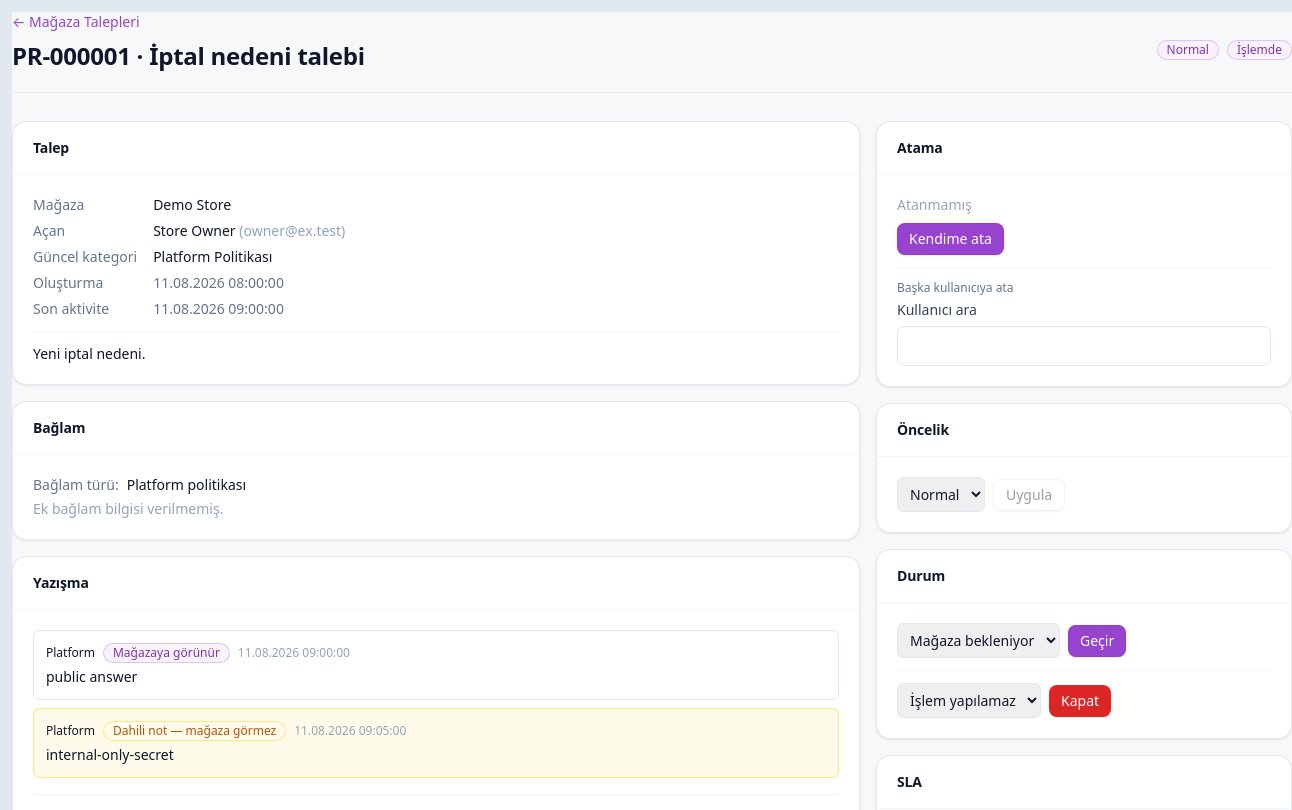
TODO-178 detail: internal vs visible distinction + actions › a VERSION_CONFLICT reloads the request and shows a human message (no crash)
# select a different priority first
Select "Acil" in the dropdown below "Öncelik" at (941, 494), box [897,477,985,512]
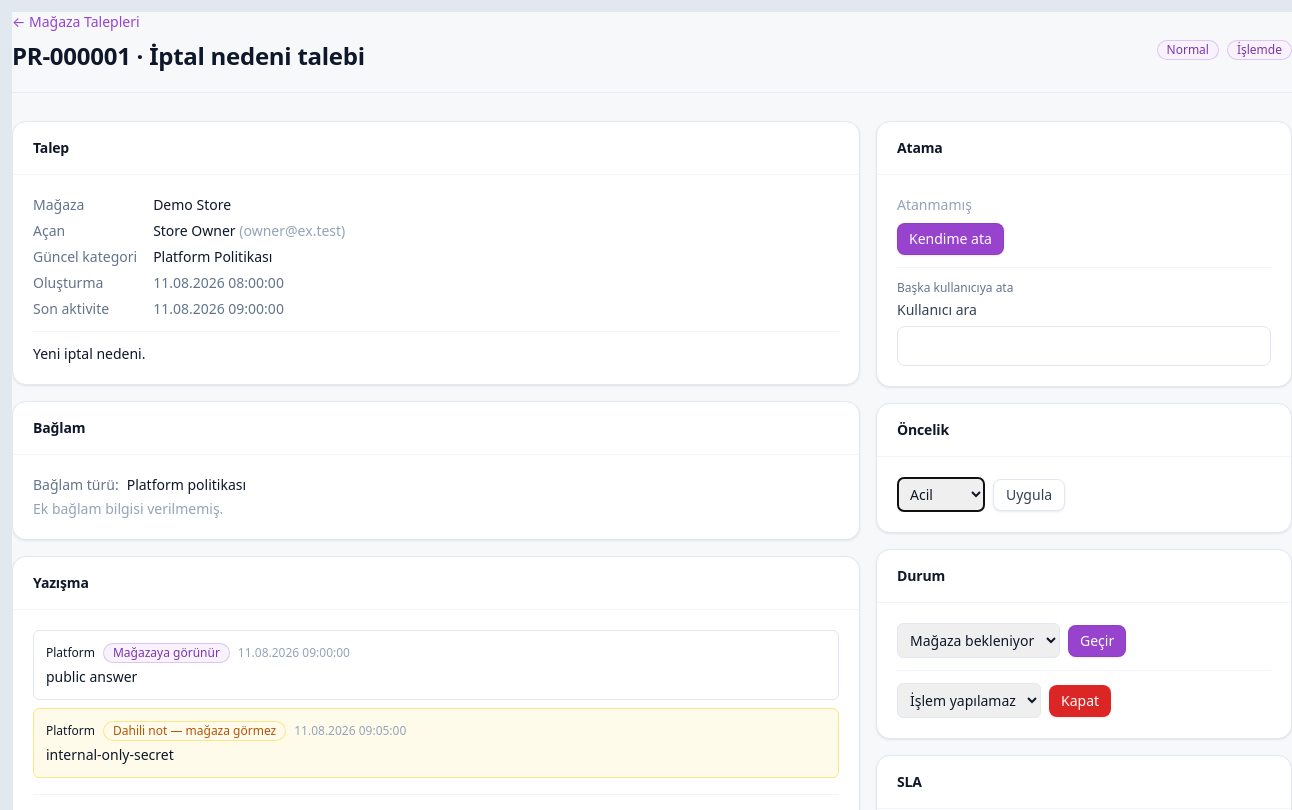
Click the button "Uygula" at (1029, 494), box [993,478,1065,510]
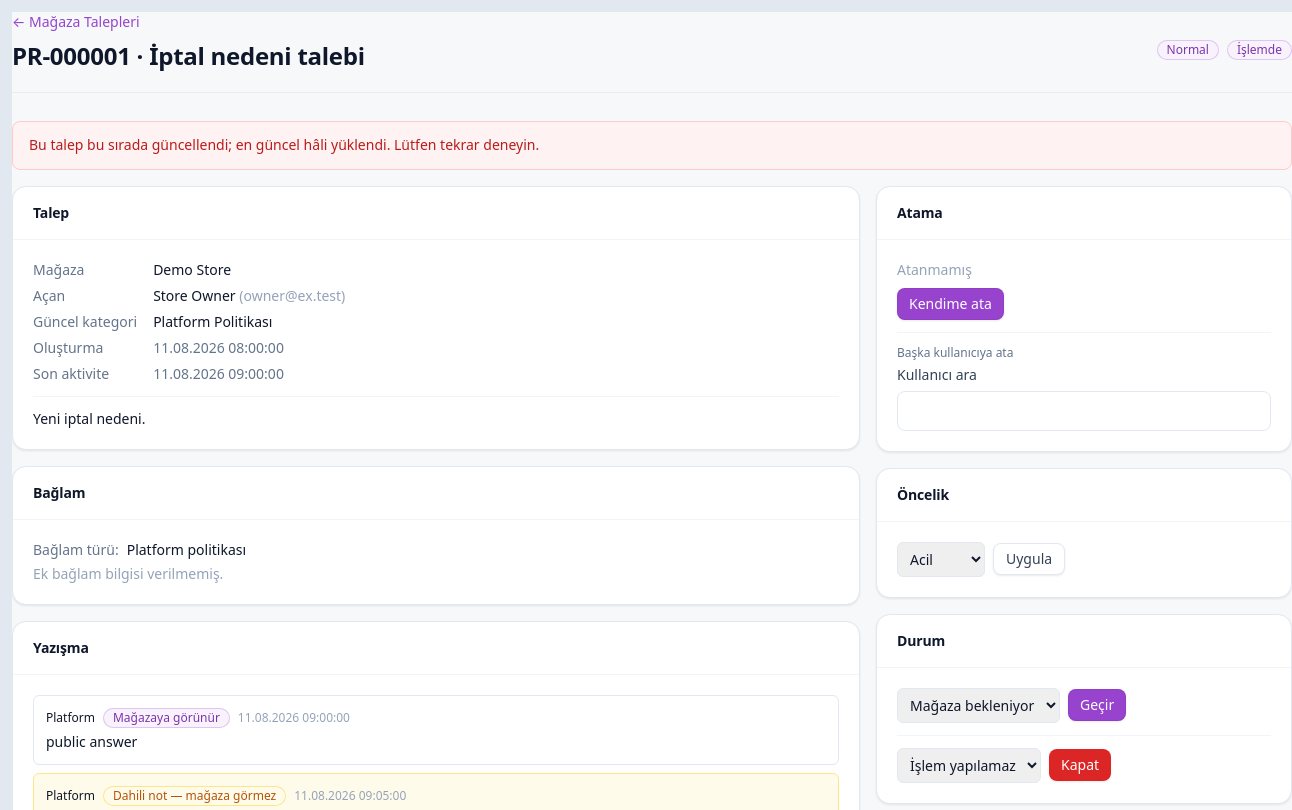
Expected: the text "en güncel hâli yüklendi" is shown, [29,135,539,154]
